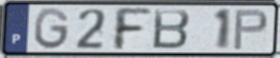1: (212, 7, 234, 52)
2: (74, 8, 109, 51)
B: (151, 8, 192, 51)
F: (112, 6, 154, 52)
G: (33, 7, 72, 52)
P: (231, 8, 270, 51)
